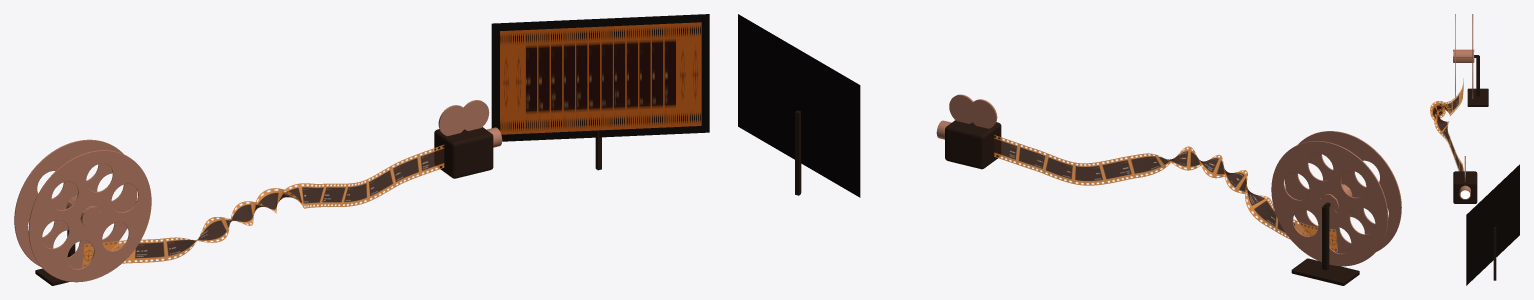
The model's file is reel-room.glb.
3 views of the same model, side by side, from view 1: azimuth 30°, elevation 25°; view 2: azimuth 150°, elevation 25°; view 3: azimuth 270°, elevation 25° (orthographic). The views are drawn at different scales.
Visible parts, largest first — view 1: Screen, Reel_FlangeFront, Film_Strip, Screen_Matte, Reel_FlangeBack, Projector_Body, Projector_TopReel, Projector_TopReel.001; view 2: Screen_Matte, Reel_FlangeBack, Film_Strip, Reel_FlangeFront, Projector_Body, Reel_StandFoot, Projector_TopReel.001, Projector_TopReel, Screen_Stand, Reel_StandPost; view 3: Screen_Matte, Film_Strip, Projector_Body, Reel_StandFoot, Reel_Hub, Screen_Stand, Reel_FlangeBack, Reel_StandPost, Projector_Lens, Reel_HubKey, Reel_FlangeFront, Projector_LensGlass.
Boxes of the visible parts, box(x1,y1,x2,y2) form: Screen: box(500, 22, 701, 134); Reel_FlangeFront: box(28, 150, 151, 282); Film_Strip: box(82, 144, 444, 267); Screen_Matte: box(491, 14, 709, 141); Reel_FlangeBack: box(14, 139, 137, 268); Projector_Body: box(434, 127, 493, 178); Projector_TopReel: box(438, 105, 468, 136); Projector_TopReel.001: box(460, 100, 489, 130); Screen_Matte: box(738, 14, 860, 197); Reel_FlangeBack: box(1271, 141, 1388, 266); Film_Strip: box(994, 135, 1337, 251); Reel_FlangeFront: box(1285, 131, 1401, 253); Projector_Body: box(945, 120, 1001, 169); Reel_StandFoot: box(1291, 258, 1359, 285); Projector_TopReel.001: box(949, 94, 976, 123); Projector_TopReel: box(969, 99, 997, 128); Screen_Stand: box(795, 110, 801, 195); Reel_StandPost: box(1322, 206, 1329, 270); Screen_Matte: box(1466, 164, 1519, 285); Film_Strip: box(1430, 78, 1463, 171); Projector_Body: box(1453, 171, 1477, 203); Reel_StandFoot: box(1467, 88, 1488, 106); Reel_Hub: box(1453, 50, 1473, 62); Screen_Stand: box(1493, 227, 1496, 280); Reel_FlangeBack: box(1472, 14, 1473, 98); Reel_StandPost: box(1476, 55, 1479, 96); Projector_Lens: box(1459, 185, 1470, 199); Reel_HubKey: box(1453, 56, 1474, 61); Reel_FlangeFront: box(1455, 14, 1455, 98); Projector_LensGlass: box(1460, 190, 1469, 198).
Size of what is drawn, in the model's own units: 29.81 by 7.15 by 5.61.
Materials: 7 (1 with a texture image).
